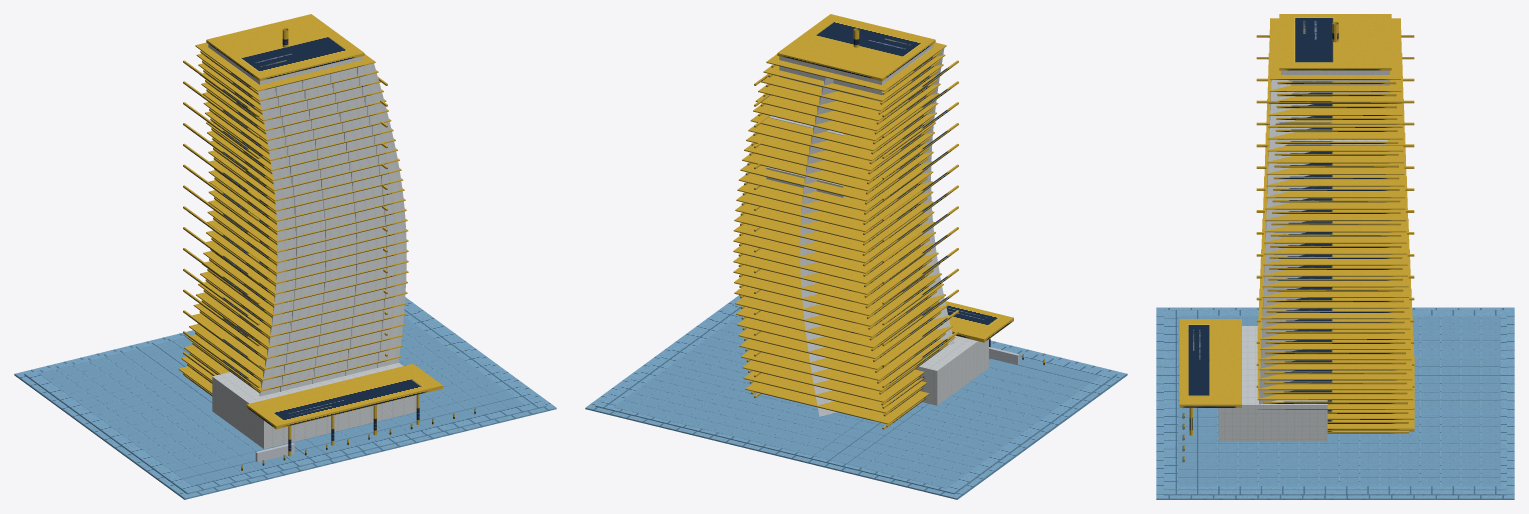
3 renders of one model, left to right at view 1: azimuth 30°, elevation 25°; view 2: azimuth 150°, elevation 25°; view 3: azimuth 270°, elevation 25°, orthographic. The views are drawn at different scales.
Visible parts, largest first — view 1: 28185_01_21998_004_02__mega_truss_fins, 28185_01_21998_004_03__curtain_wall_tower, 28185_01_21998_004_01__plaza_base; view 2: 28185_01_21998_004_02__mega_truss_fins, 28185_01_21998_004_01__plaza_base, 28185_01_21998_004_03__curtain_wall_tower, 28185_01_21998_004_04__sky_garden_sign; view 3: 28185_01_21998_004_02__mega_truss_fins, 28185_01_21998_004_01__plaza_base, 28185_01_21998_004_03__curtain_wall_tower, 28185_01_21998_004_04__sky_garden_sign.
Part boxes in pixels (left/top/right/bottom): 28185_01_21998_004_02__mega_truss_fins: left=178, top=14, right=475, bottom=470; 28185_01_21998_004_03__curtain_wall_tower: left=208, top=44, right=416, bottom=448; 28185_01_21998_004_01__plaza_base: left=14, top=297, right=556, bottom=499; 28185_01_21998_004_02__mega_truss_fins: left=733, top=14, right=1044, bottom=429; 28185_01_21998_004_01__plaza_base: left=585, top=295, right=1127, bottom=499; 28185_01_21998_004_03__curtain_wall_tower: left=766, top=44, right=988, bottom=416; 28185_01_21998_004_04__sky_garden_sign: left=766, top=116, right=1019, bottom=364; 28185_01_21998_004_02__mega_truss_fins: left=1179, top=14, right=1414, bottom=462; 28185_01_21998_004_01__plaza_base: left=1156, top=307, right=1514, bottom=499; 28185_01_21998_004_03__curtain_wall_tower: left=1218, top=70, right=1390, bottom=441; 28185_01_21998_004_04__sky_garden_sign: left=1290, top=139, right=1389, bottom=209.
Size of the model in its own units: 58 by 54 by 46.
4 materials, 4 textured.
